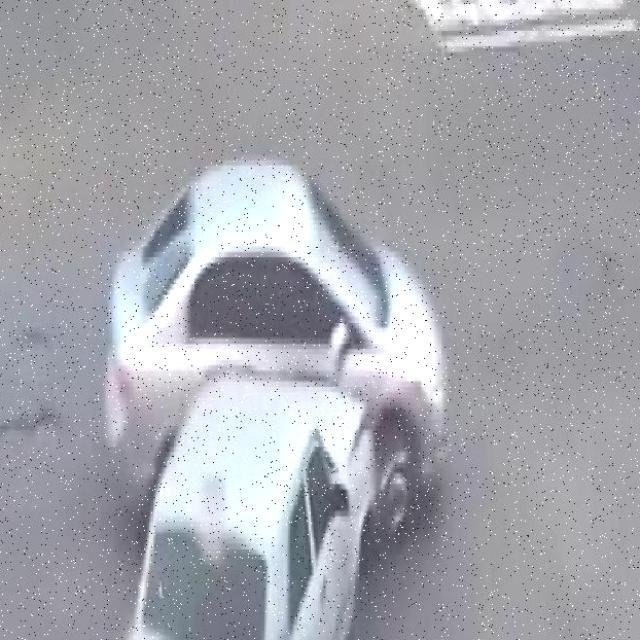accident: (104, 155, 456, 640)
